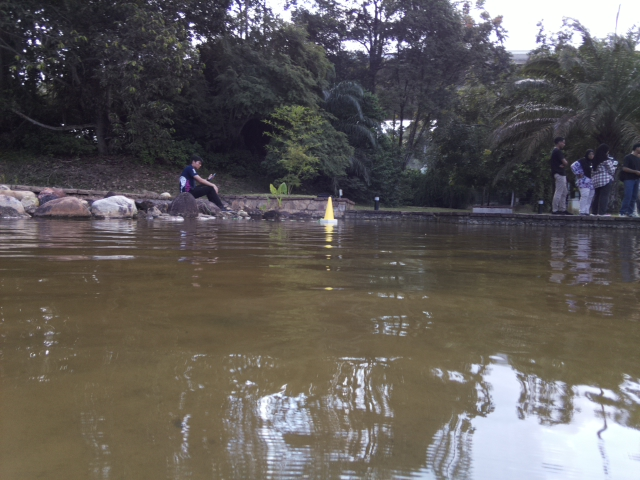checkpoint: (318, 195, 339, 226)
